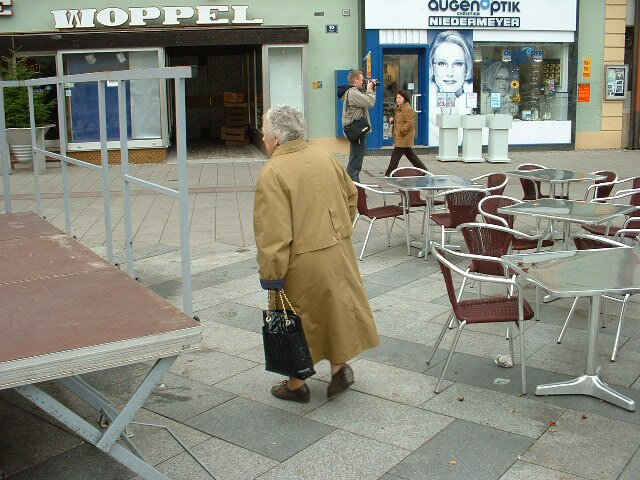person: (249, 101, 381, 405)
